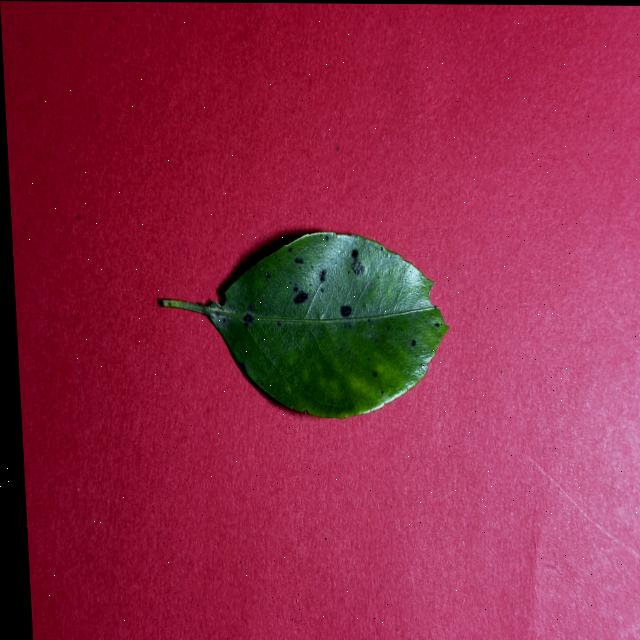sooty_mold: (160, 231, 449, 417)
